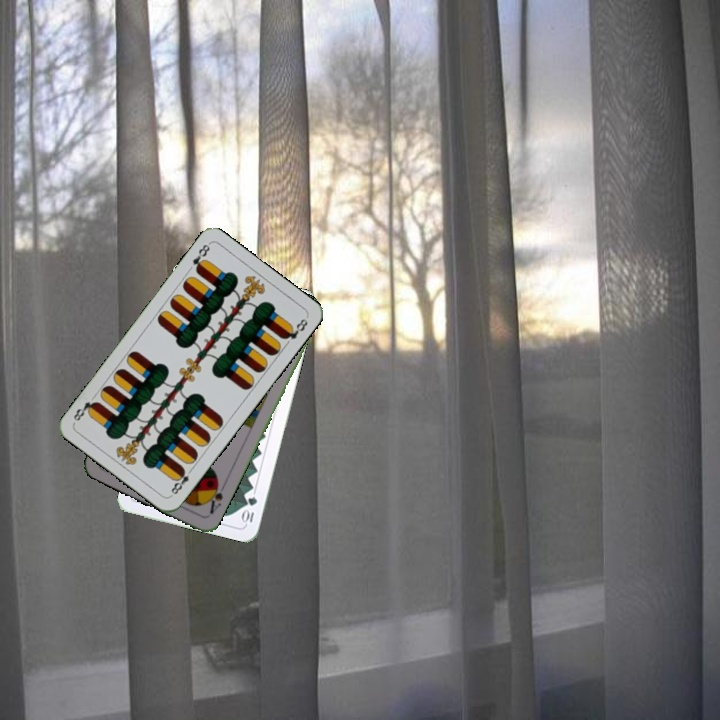E8: (166, 464, 196, 498), (188, 240, 213, 275)
G10: (239, 493, 260, 525)
SA: (202, 477, 228, 517)
